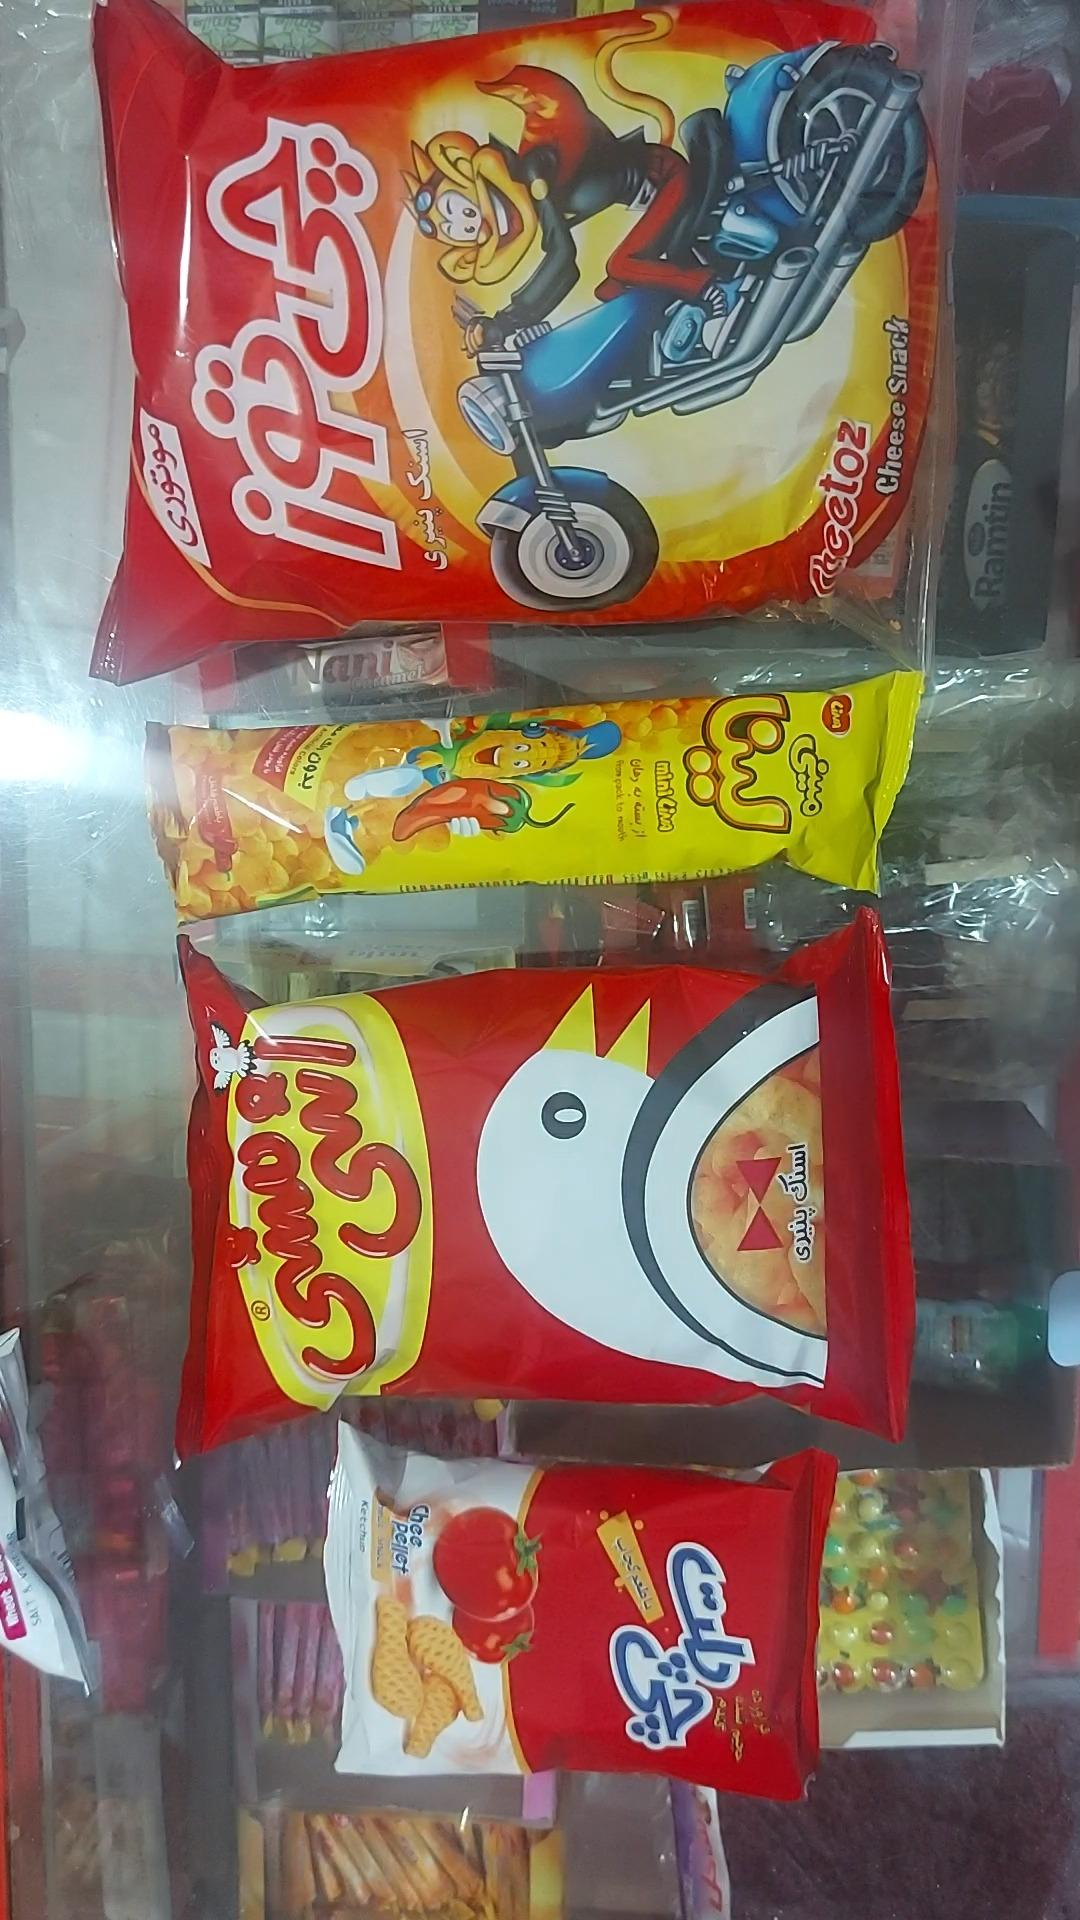Ashi Mashi snacks: (179, 913, 913, 1447), (323, 1423, 840, 1800)
Cheetoz snack 90g: (90, 0, 951, 683)
Mini Lina: (146, 673, 918, 924)
